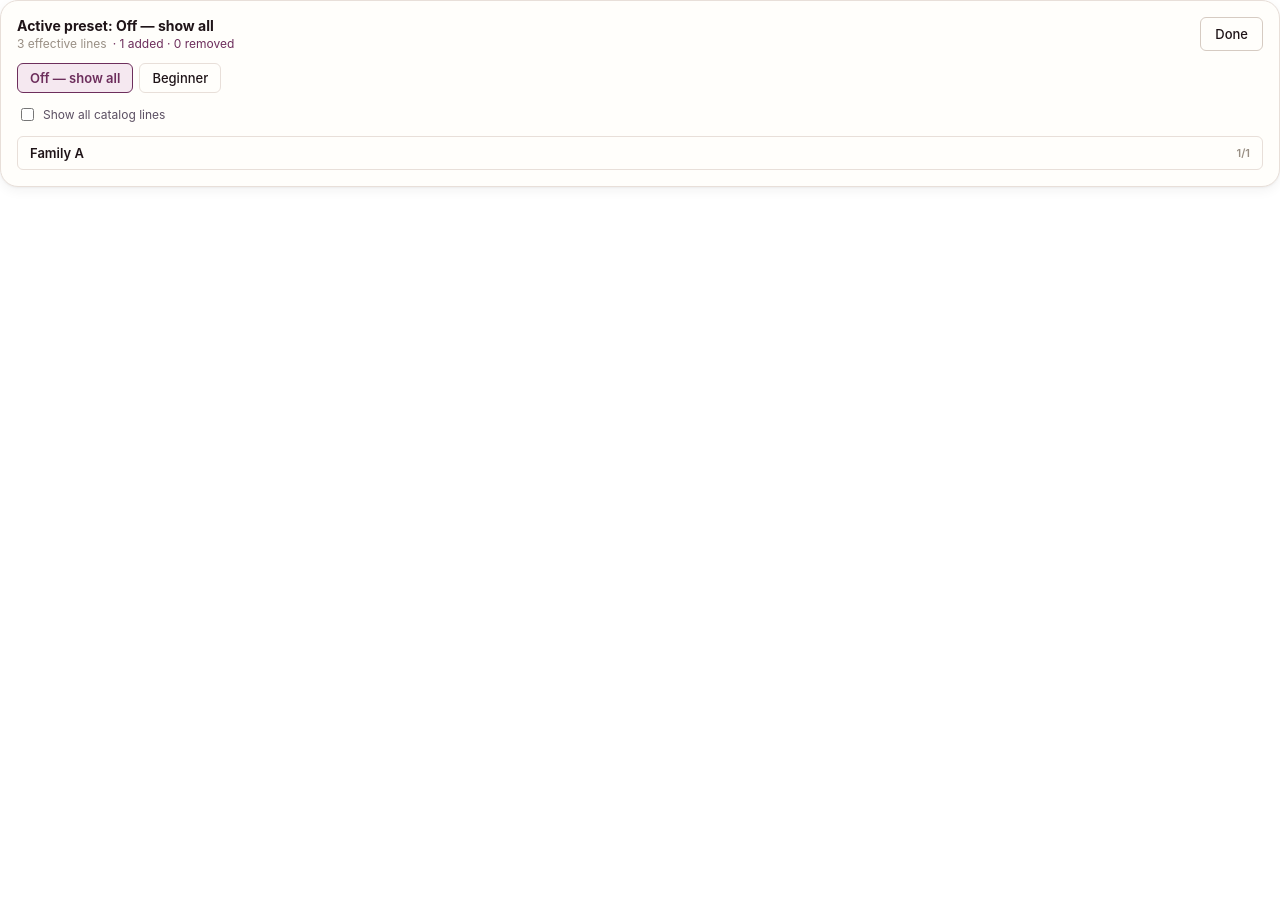
Scenario: RepertoirePicker › preset switch with deltas opens confirm; cancel keeps prior preset
Check: the text "Active preset: Off — show all" is shown, box [17,17,234,34]
Click the radio button labelled "Beginner": x=180, y=78 [139,63,221,93]
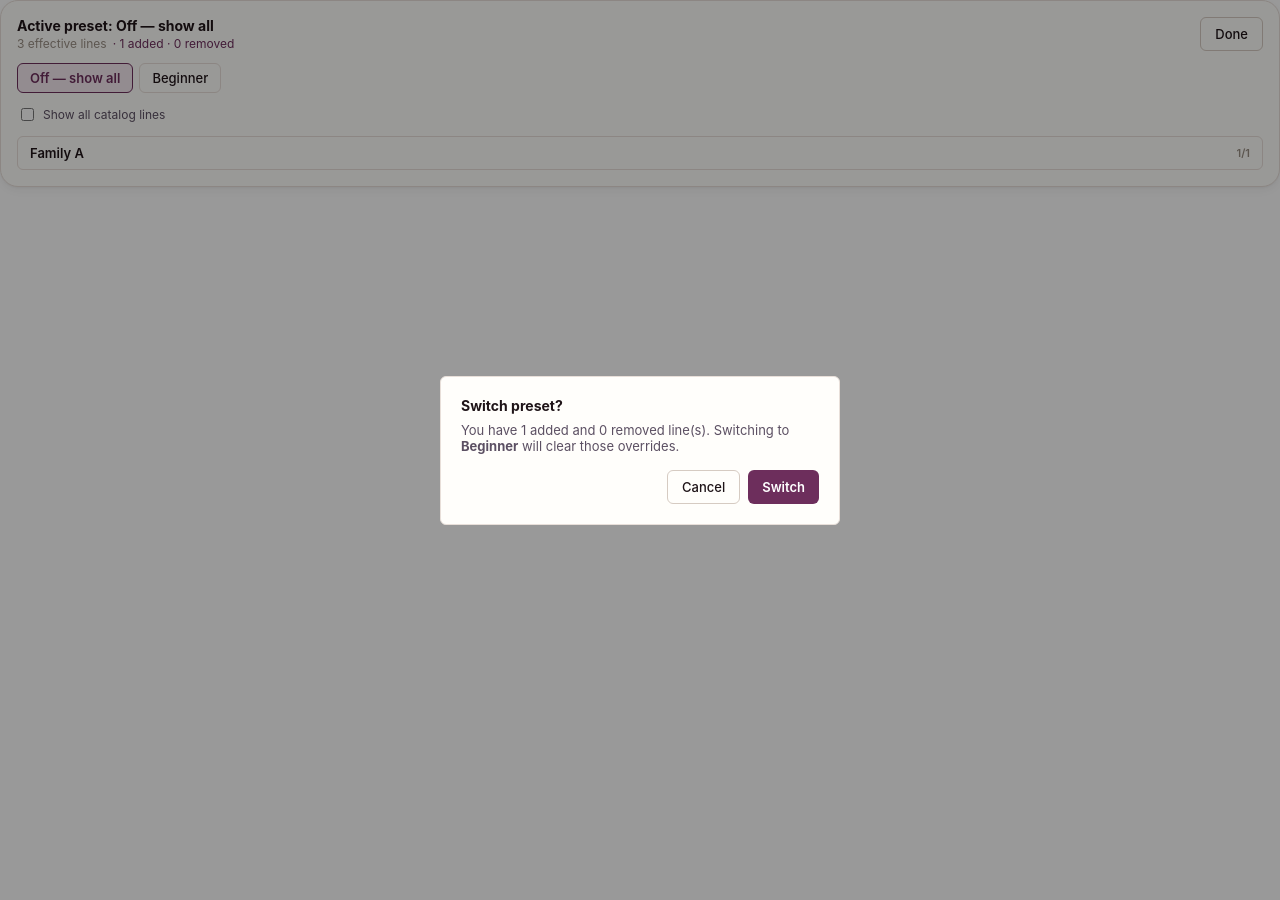
Check: the dialog is shown
Click the button "Cancel": x=704, y=486 [667,470,740,504]
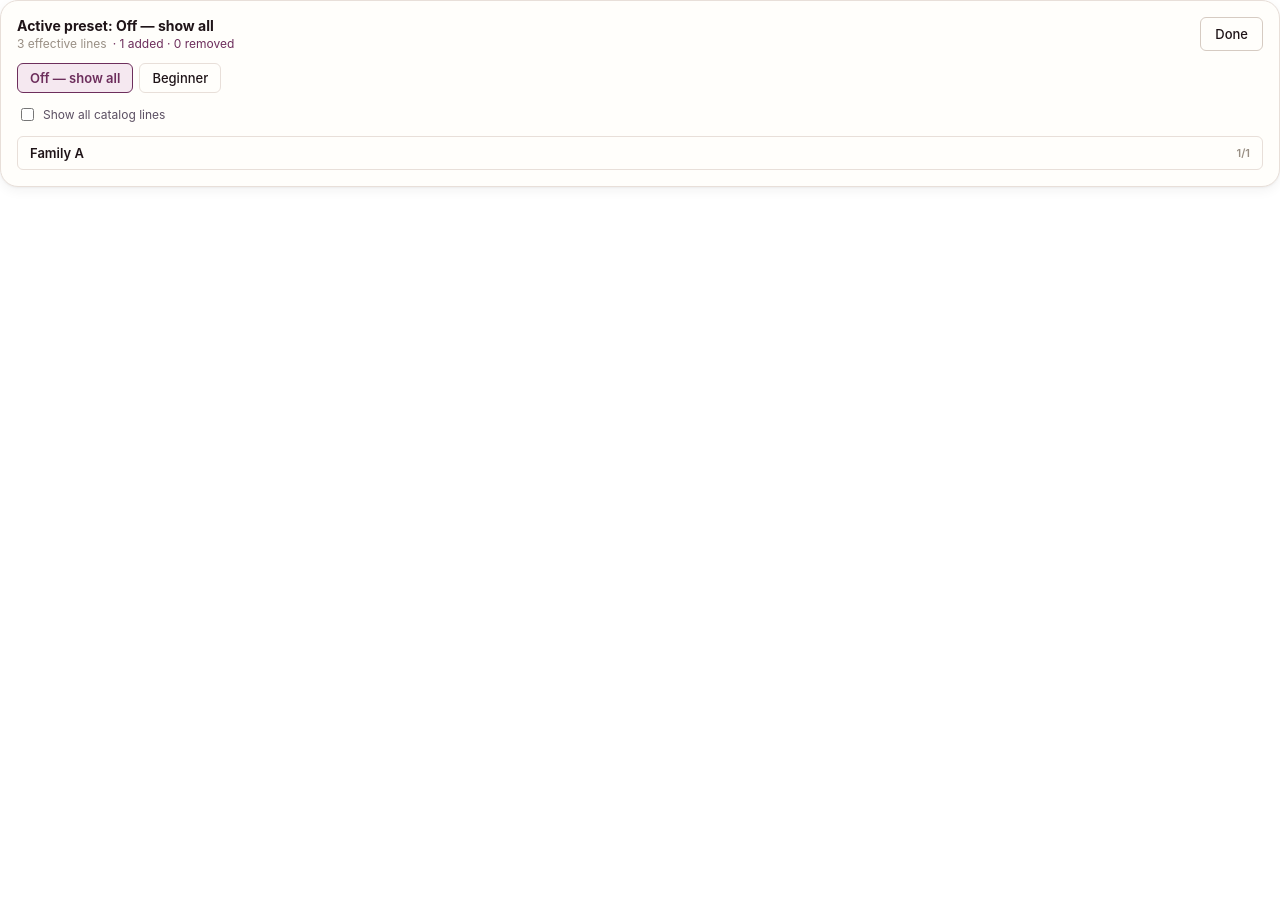
Check: the dialog is gone
